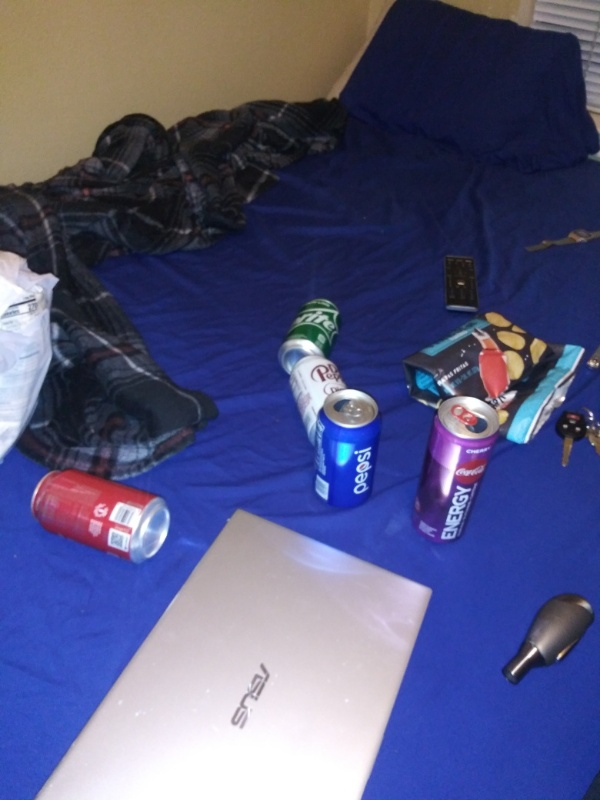can: (406, 395, 504, 545), (28, 465, 172, 567), (311, 384, 381, 508), (284, 354, 365, 443), (276, 296, 345, 375)
